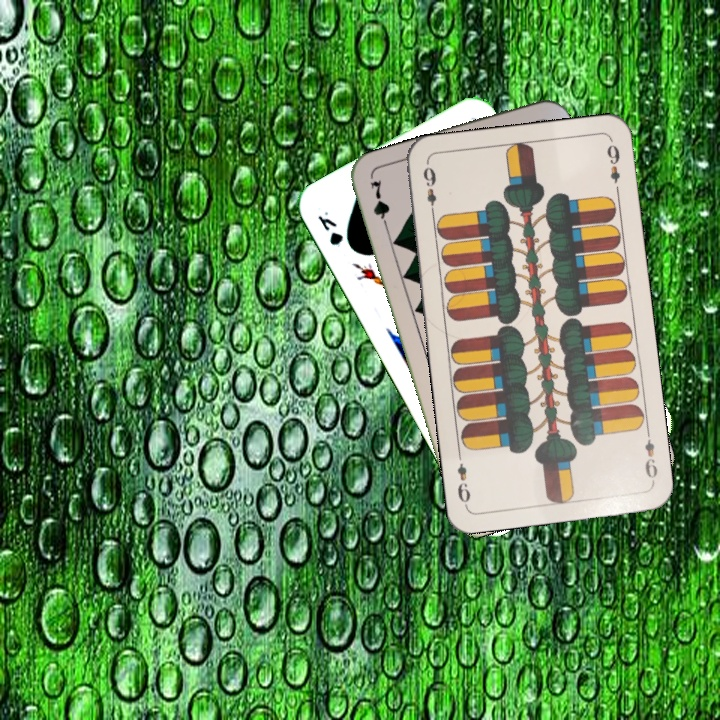E9: (419, 160, 439, 219), (640, 426, 660, 485)
G7: (366, 175, 393, 234)
GK: (313, 207, 346, 250)
